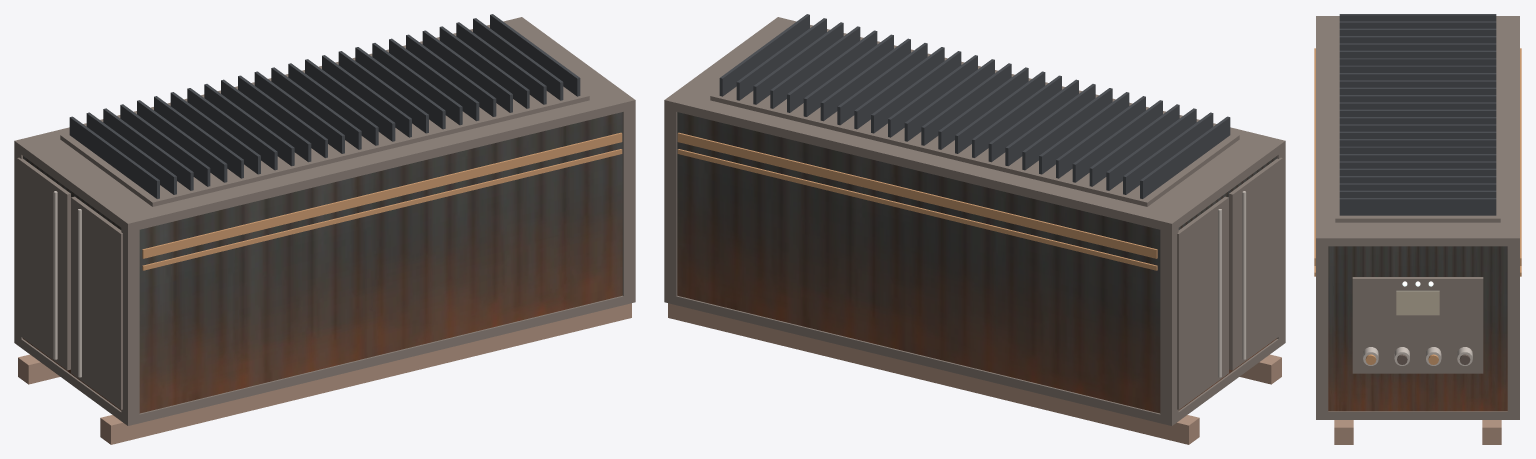
File: E03_battery_bank.glb
The picture shows the model from 3 angles, left to right: view 1: azimuth 30°, elevation 25°; view 2: azimuth 150°, elevation 25°; view 3: azimuth 270°, elevation 25°; orthographic projection. The views are drawn at different scales.
Visible parts, largest first — view 1: container, skid, accent_stripe, cable_port; view 2: container, skid, accent_stripe, cable_port; view 3: container, accent_stripe, status_display, skid, cable_port.
Part boxes in pixels (bbox=[...]): container: bbox=[14, 14, 635, 425]; skid: bbox=[18, 303, 631, 444]; accent_stripe: bbox=[142, 132, 622, 270]; cable_port: bbox=[53, 191, 81, 377]; container: bbox=[664, 14, 1285, 425]; skid: bbox=[668, 303, 1281, 444]; accent_stripe: bbox=[677, 132, 1157, 270]; cable_port: bbox=[1218, 191, 1246, 377]; container: bbox=[1316, 14, 1519, 419]; accent_stripe: bbox=[1314, 48, 1521, 364]; status_display: bbox=[1396, 290, 1439, 315]; skid: bbox=[1334, 420, 1501, 444]; cable_port: bbox=[1363, 347, 1472, 365].
Bounding box in the file's own units: 6.32 × 2.84 × 2.38.
Materials: 7 (1 with a texture image).
